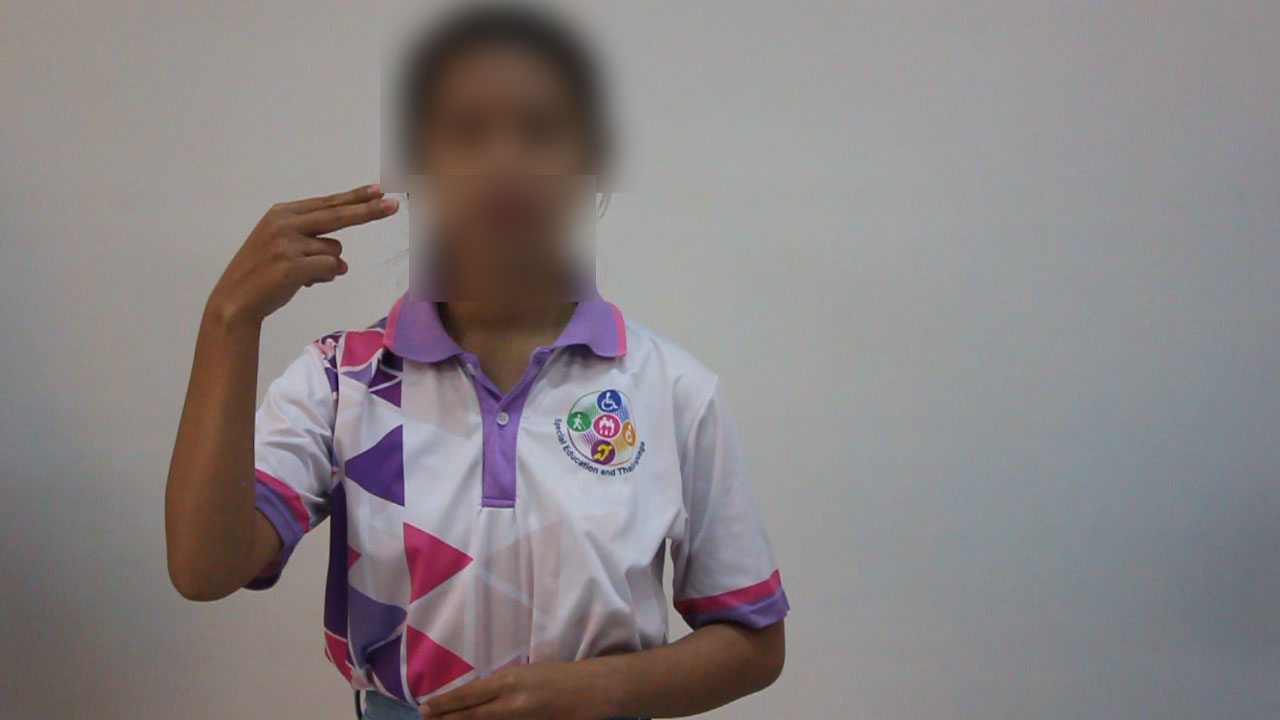hor: (185, 178, 421, 333)
